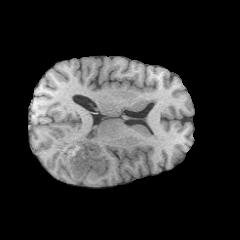glioma: (56, 134, 105, 180)
